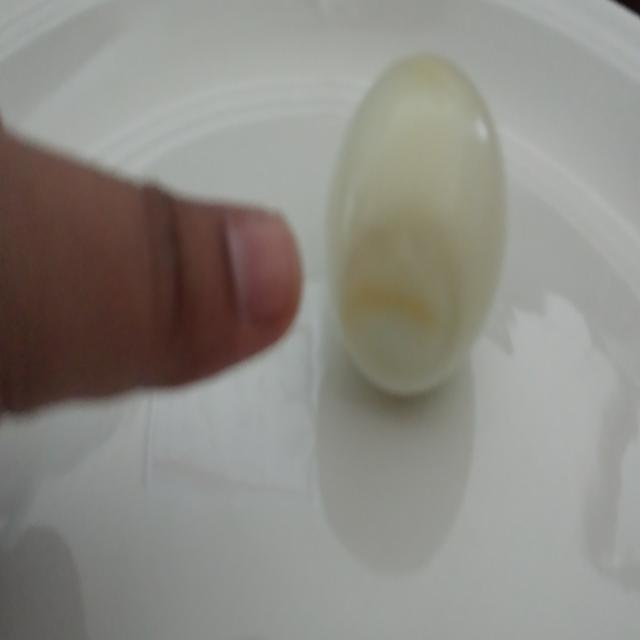egg: (316, 45, 508, 419)
